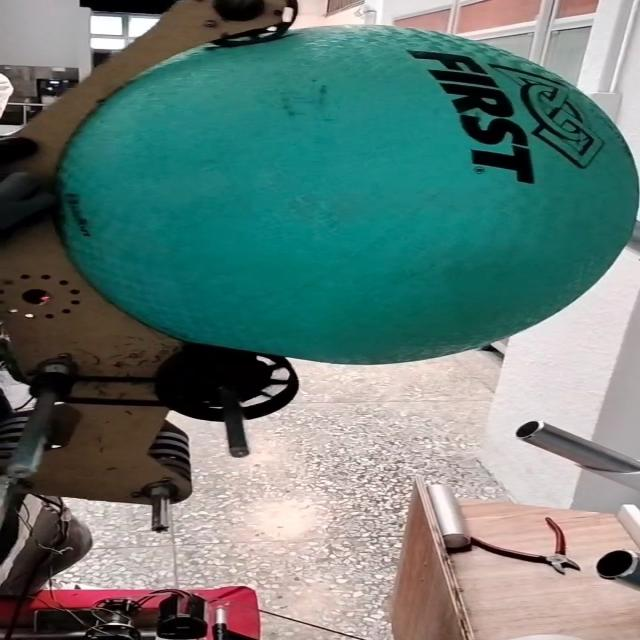ALGAE: (54, 25, 640, 369)
